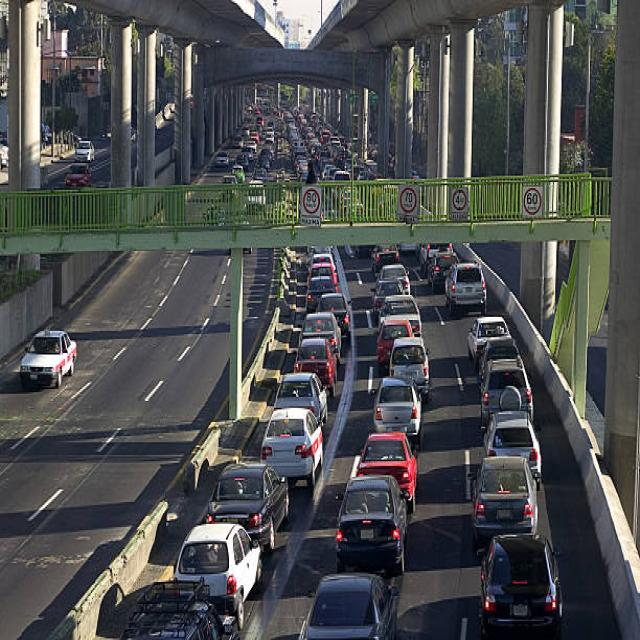Car: (172, 521, 262, 629), (478, 532, 563, 638), (205, 461, 289, 552), (119, 576, 240, 638), (333, 474, 408, 574), (297, 571, 398, 638), (469, 455, 538, 546), (350, 430, 418, 513), (259, 406, 323, 489), (19, 328, 76, 389), (64, 163, 92, 188), (75, 140, 94, 162)
